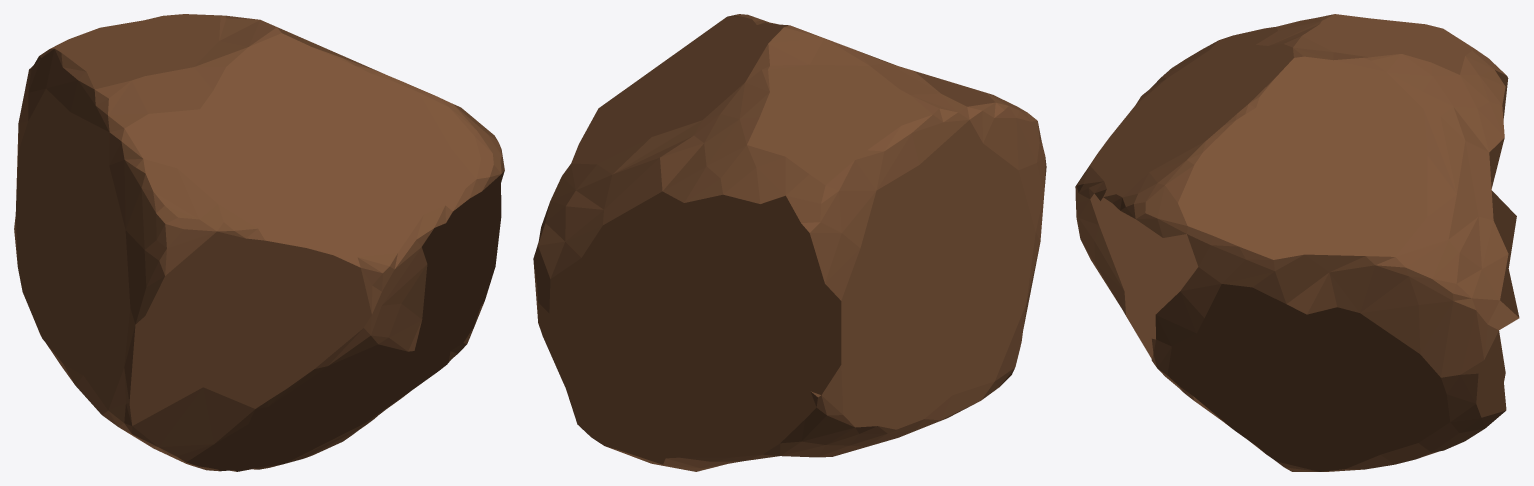
Rendered from Rock1.fbx.
3 renders of one model, left to right at view 1: azimuth 30°, elevation 25°; view 2: azimuth 150°, elevation 25°; view 3: azimuth 270°, elevation 25°, orthographic. The views are drawn at different scales.
Visible parts, largest first — view 1: Rock1; view 2: Rock1; view 3: Rock1.
Part boxes in pixels (<box>): Rock1: <box>14,14,504,471</box>; Rock1: <box>533,14,1046,471</box>; Rock1: <box>1075,14,1519,471</box>.
Size of the model in its own units: 335 by 356 by 366.
